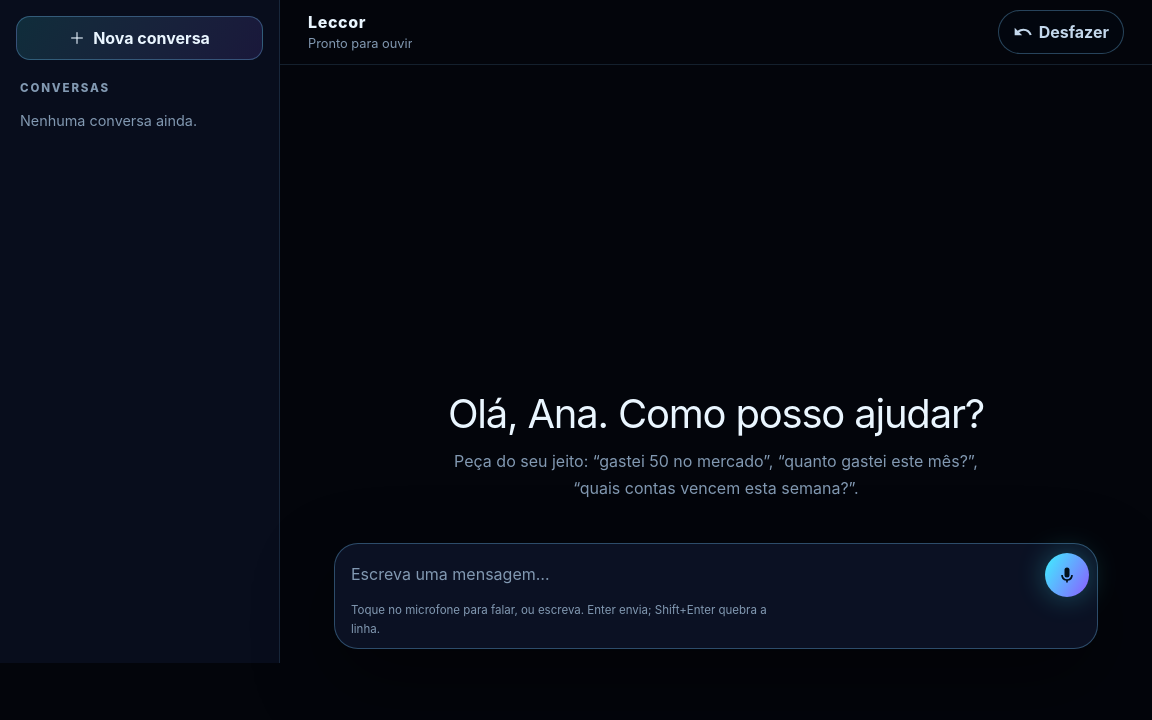
Test: voice in the chat › puts the microphone first while the box is empty
Check: the button named "Falar" is enabled, box [1045,553,1089,597]
Step 1. Type "oi" into the text box named "Mensagem para o assistente" → coordinates (694, 574), box [351,552,1037,597]
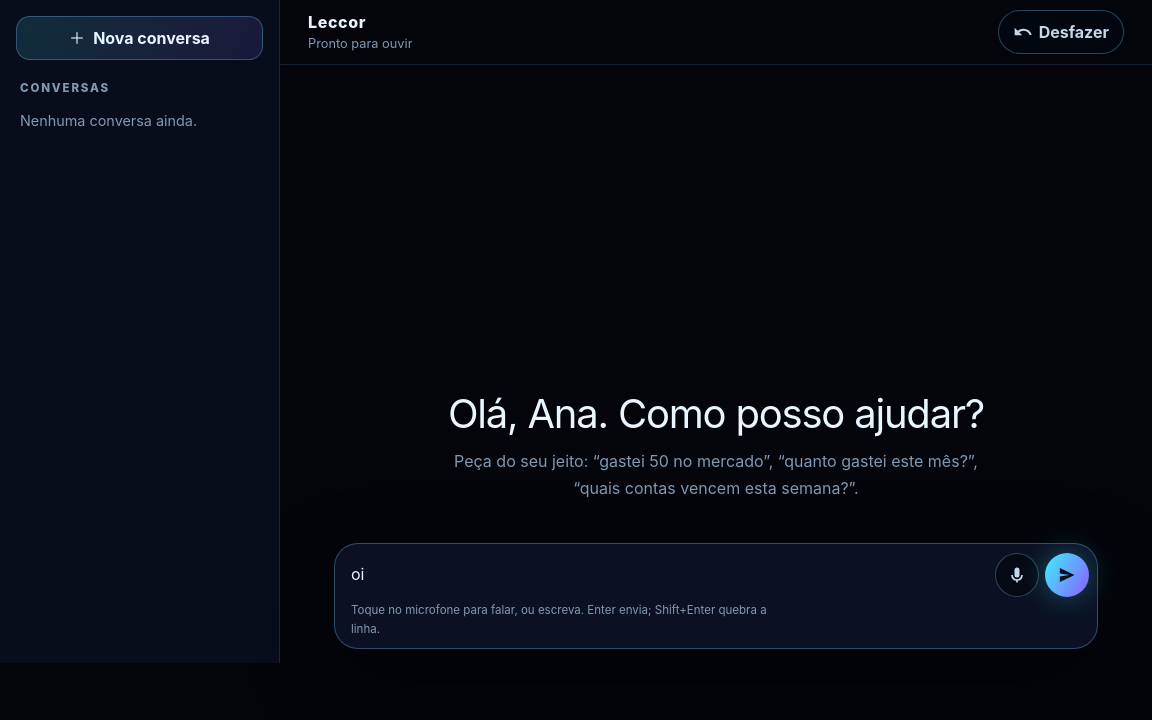
Check: the button named "Enviar" is enabled, box [1045,553,1089,597]
